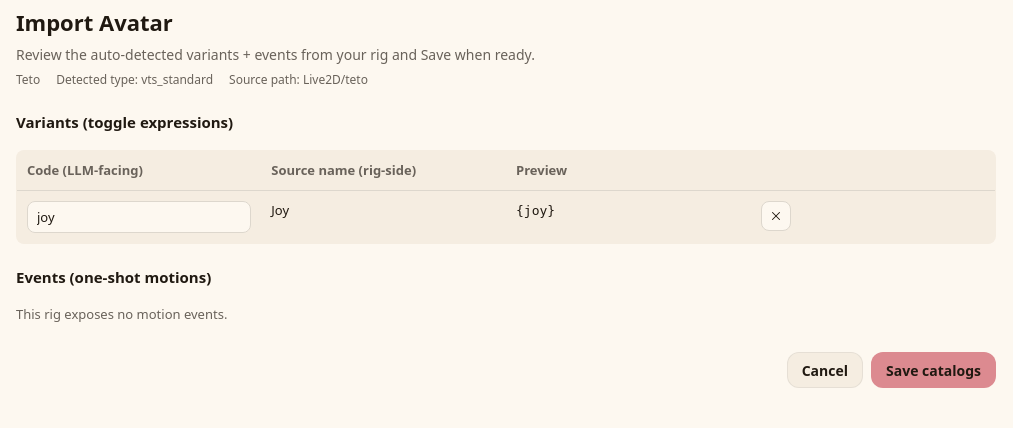
Test: AvatarImport review route › surfaces reserved-name validation inline
Replace the text in the field with test id "variant-code-input-0" with "think" at (139, 217), box x1=27 y1=201 x2=251 y2=233
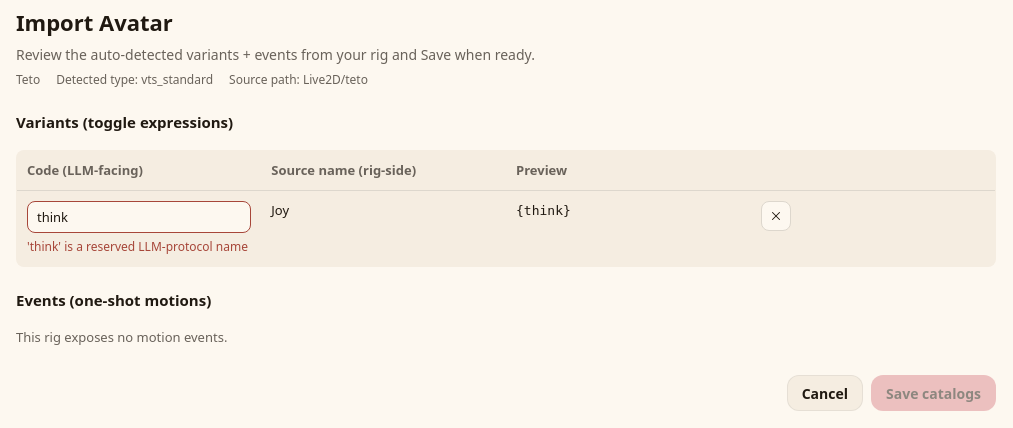
Expected: the text "'think' is a reserved LLM-protocol name" is shown, x1=27 y1=238 x2=251 y2=256
Expected: the button "Save catalogs" is disabled, x1=871 y1=375 x2=996 y2=411
